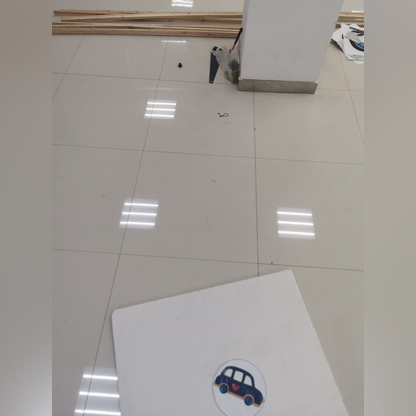car: (207, 348, 266, 414)
